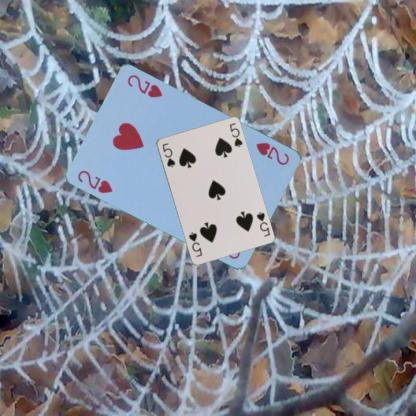2h: (75, 168, 115, 194), (254, 140, 291, 166)
5s: (254, 209, 271, 238), (160, 140, 176, 169)
